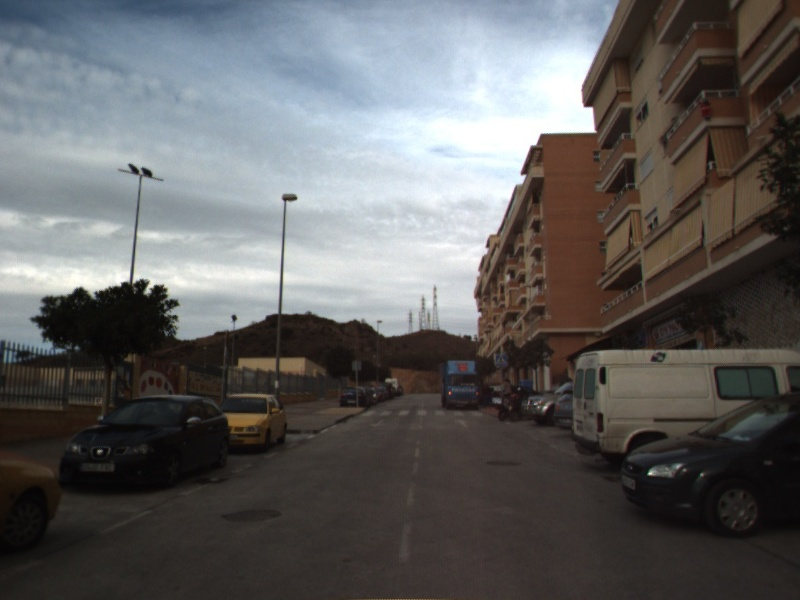STRAIGHT: (452, 416, 472, 430)
